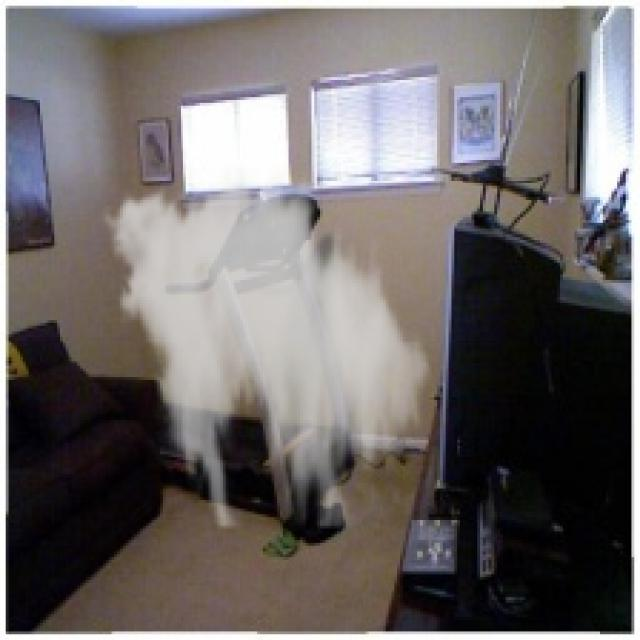smoke: (94, 163, 440, 528)
